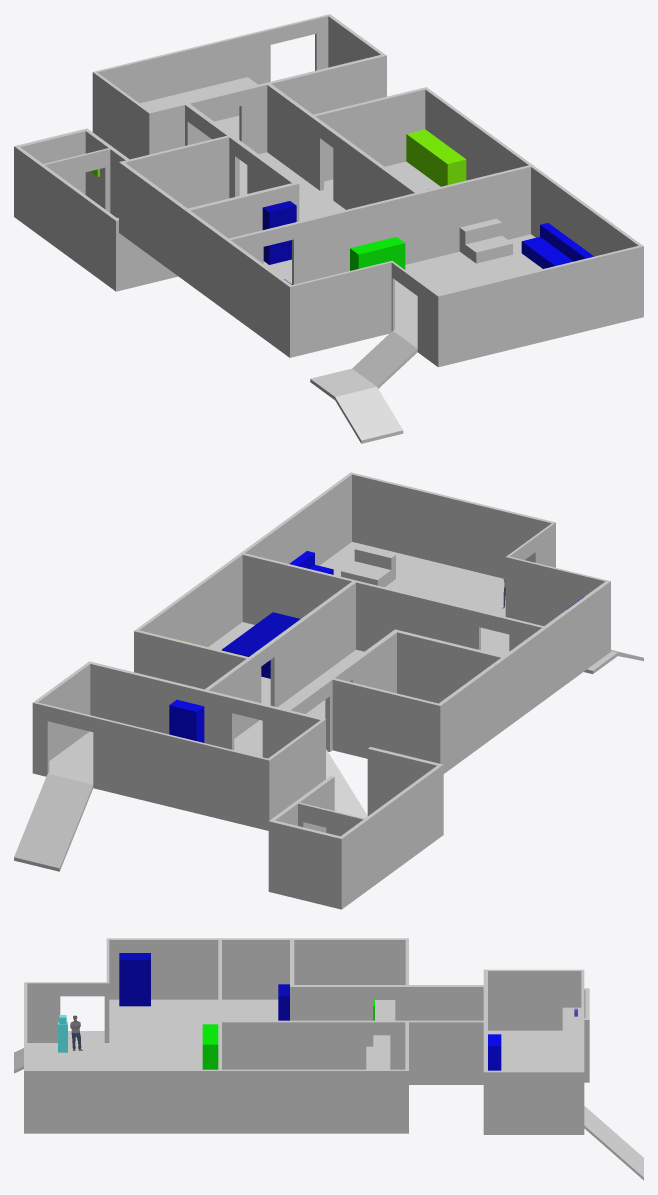
File: Level 1 House Layout.fbx
The picture shows the model from 3 angles, top to bottom: view 1: azimuth 30°, elevation 25°; view 2: azimuth 150°, elevation 25°; view 3: azimuth 270°, elevation 25°; orthographic projection. The views are drawn at different scales.
Visible parts, largest first — view 1: Model; view 2: Model; view 3: Model.
Boxes of the visible parts, <box> form: Model: <box>14,14,643,443</box>; Model: <box>14,472,643,909</box>; Model: <box>14,938,643,1180</box>.
Bounding box in the file's own units: 578 × 229 × 1138.
